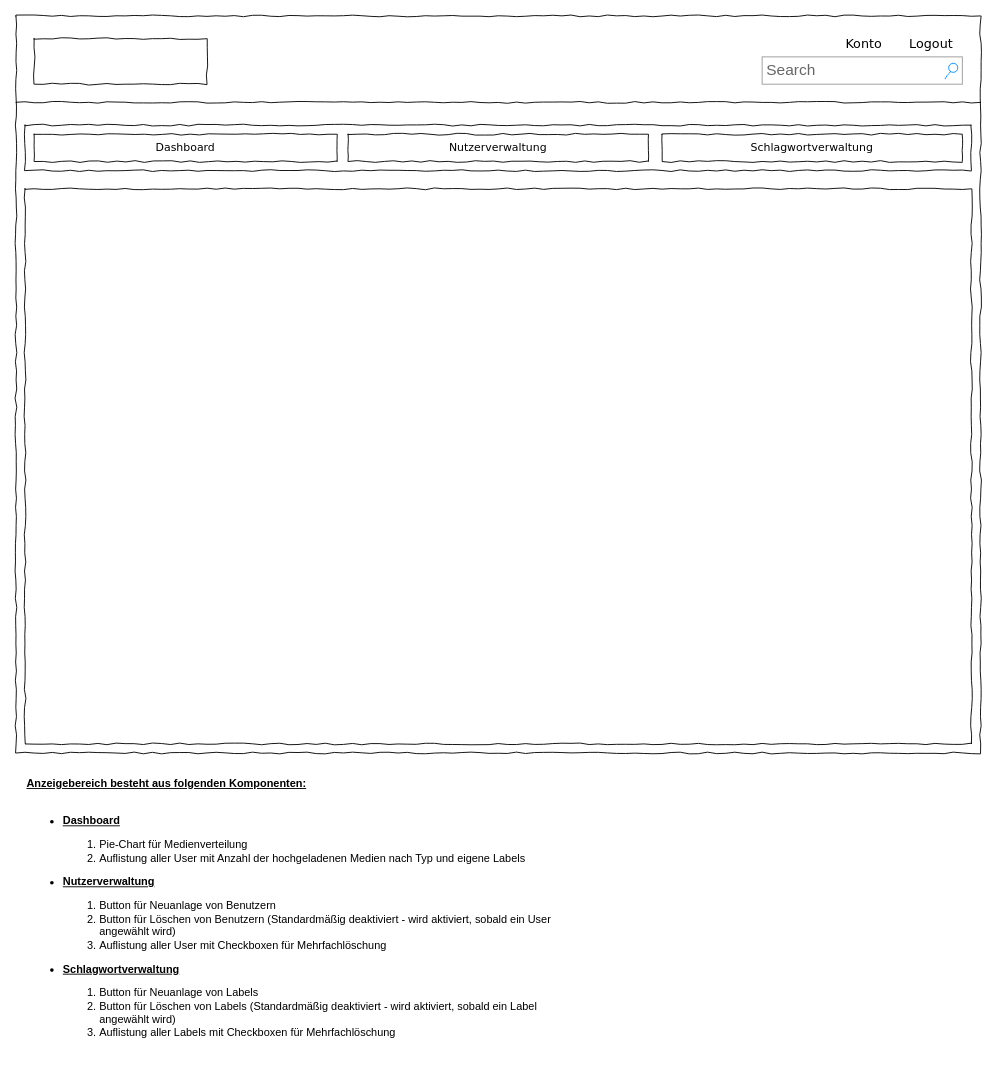
This 996x1069 diagram has some shape labels left out. Here are the shapes that lost their labels. From the top down, the centre of each, then its label:
pixel 120 61: LOGO
pixel 497 466: Anzeigebereich
